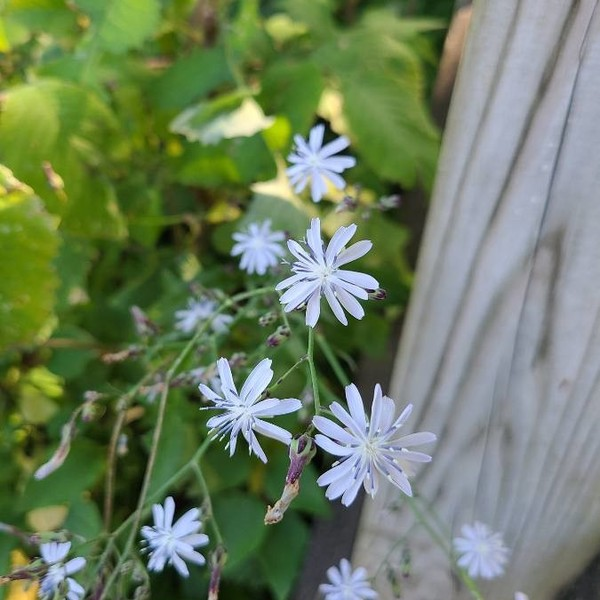obstacle: (191, 147, 426, 523)
